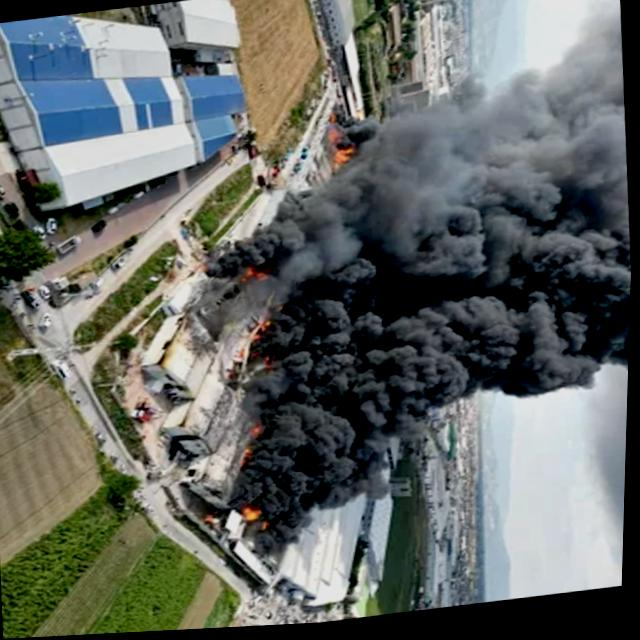no_helmet: (195, 54, 638, 558)
